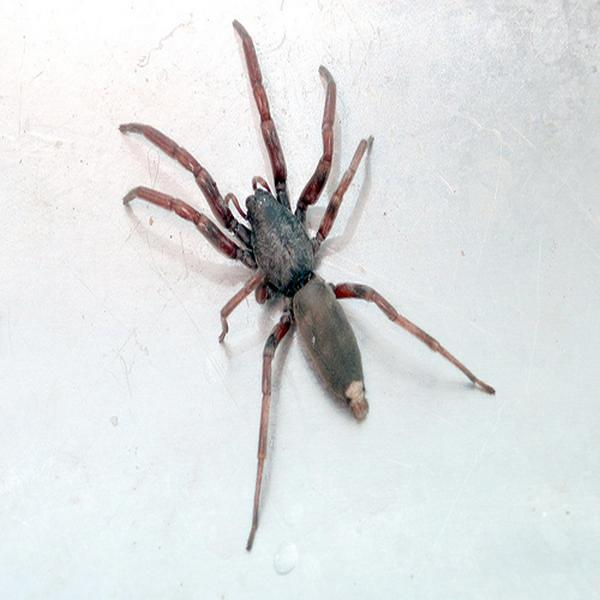White-Tailed_Spider: (117, 20, 496, 552)
